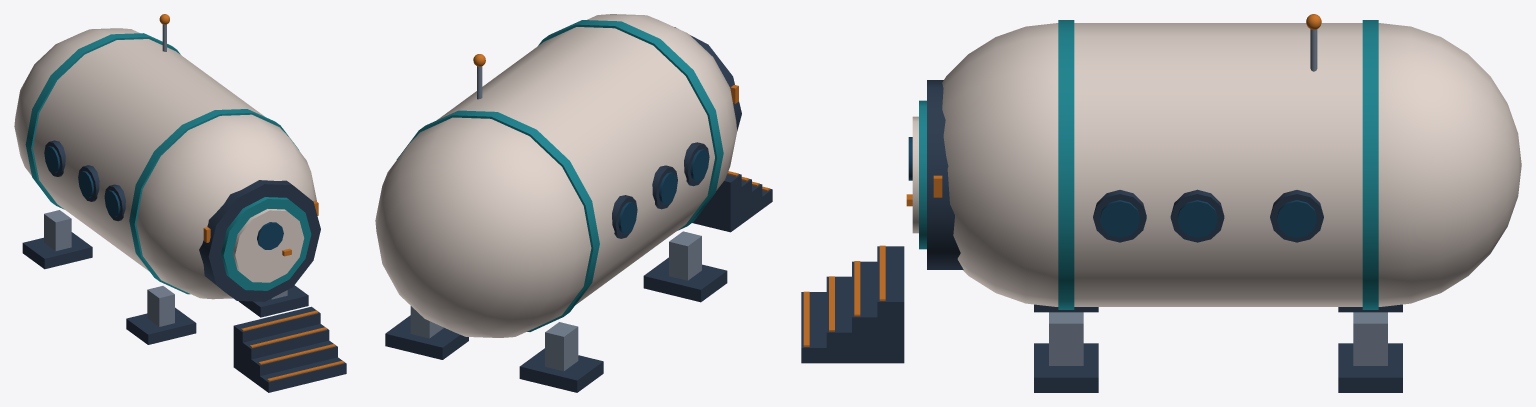
Rendered from habitat_lunar.glb.
3 renders of one model, left to right at view 1: azimuth 30°, elevation 25°; view 2: azimuth 150°, elevation 25°; view 3: azimuth 270°, elevation 25°, orthographic. The views are drawn at different scales.
Visible parts, largest first — view 1: CascoPresurizado, Esclusa, Puerta, MarcoPuerta, Anillo1, Anillo0, Peldano3, Peldano2, Peldano1, Peldano0, Zapata00, Zapata10 (+10 smaller); view 2: CascoPresurizado, Anillo0, Anillo1, Zapata10, Zapata00, Zapata01, Peldano3, Soporte00, Soporte10, Soporte01, Esclusa, MarcoOeste2 (+6 smaller); view 3: CascoPresurizado, Anillo0, Anillo1, Esclusa, Peldano3, Zapata01, Zapata11, Peldano2, Peldano1, Soporte01, Soporte11, Peldano0 (+8 smaller).
Boxes of the visible parts, x1=… form: CascoPresurizado: x1=14, y1=28, x2=316, y2=299; Esclusa: x1=199, y1=180, x2=320, y2=301; Puerta: x1=233, y1=209, x2=304, y2=282; MarcoPuerta: x1=221, y1=197, x2=311, y2=290; Anillo1: x1=129, y1=109, x2=299, y2=294; Anillo0: x1=25, y1=33, x2=180, y2=209; Peldano3: x1=233, y1=306, x2=320, y2=373; Peldano2: x1=242, y1=324, x2=329, y2=379; Peldano1: x1=251, y1=340, x2=337, y2=386; Peldano0: x1=260, y1=357, x2=346, y2=392; Zapata00: x1=22, y1=232, x2=92, y2=269; Zapata10: x1=126, y1=307, x2=196, y2=344; CascoPresurizado: x1=375, y1=14, x2=737, y2=337; Anillo0: x1=396, y1=110, x2=599, y2=331; Anillo1: x1=538, y1=20, x2=723, y2=230; Zapata10: x1=643, y1=257, x2=727, y2=302; Zapata00: x1=519, y1=348, x2=603, y2=392; Zapata01: x1=385, y1=315, x2=468, y2=359; Peldano3: x1=692, y1=174, x2=741, y2=232; Soporte00: x1=545, y1=322, x2=578, y2=371; Soporte10: x1=669, y1=231, x2=701, y2=280; Soporte01: x1=410, y1=306, x2=443, y2=338; Esclusa: x1=674, y1=27, x2=741, y2=130; MarcoOeste2: x1=684, y1=142, x2=709, y2=186; CascoPresurizado: x1=942, y1=23, x2=1521, y2=306; Anillo0: x1=1362, y1=20, x2=1378, y2=309; Anillo1: x1=1058, y1=20, x2=1074, y2=309; Esclusa: x1=927, y1=80, x2=963, y2=269; Peldano3: x1=877, y1=246, x2=904, y2=363; Zapata01: x1=1338, y1=343, x2=1402, y2=392; Zapata11: x1=1034, y1=343, x2=1098, y2=392; Peldano2: x1=852, y1=261, x2=878, y2=363; Peldano1: x1=826, y1=276, x2=853, y2=363; Soporte01: x1=1353, y1=312, x2=1387, y2=365; Soporte11: x1=1049, y1=312, x2=1083, y2=365; Peldano0: x1=801, y1=292, x2=827, y2=363.
Size of the model in its own units: 2.99 by 3.81 by 7.24.
